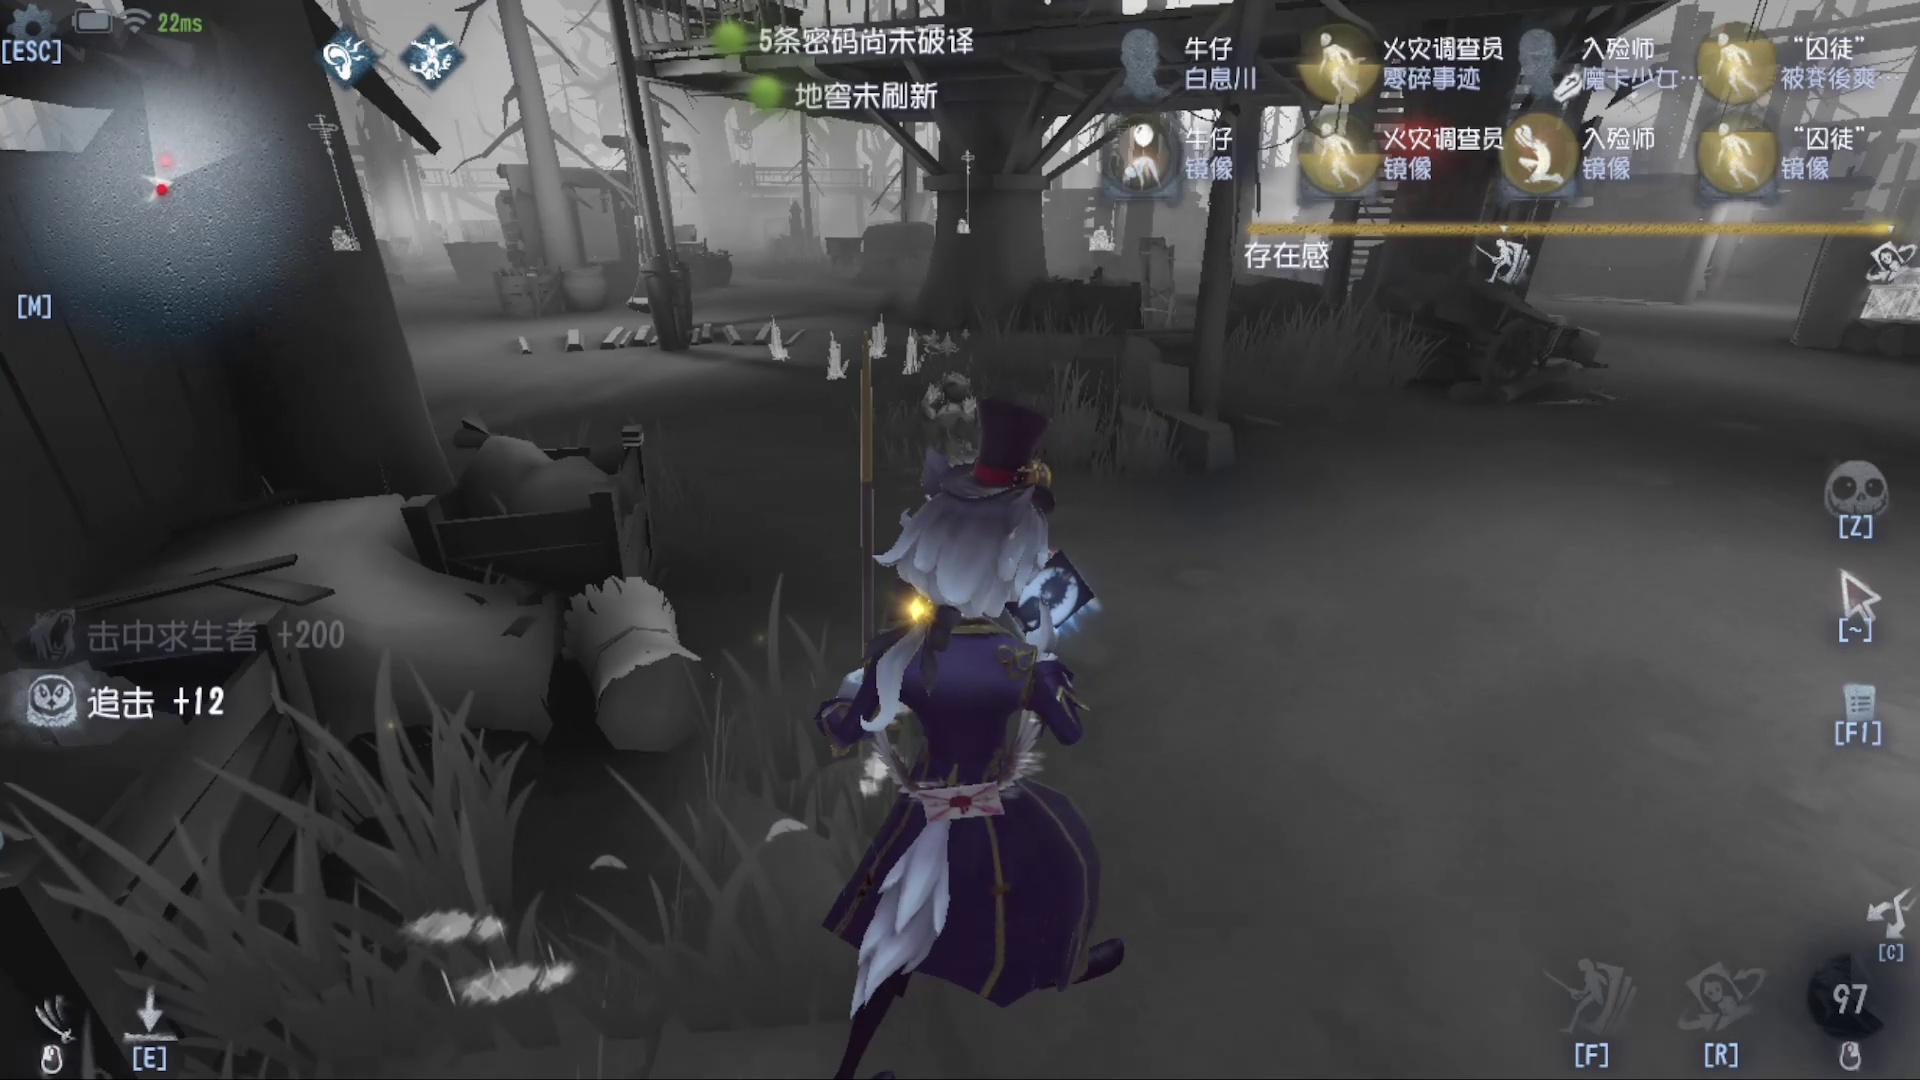狂欢之椅: (762, 305, 806, 386), (895, 324, 934, 389), (818, 324, 855, 390), (862, 309, 899, 367)
